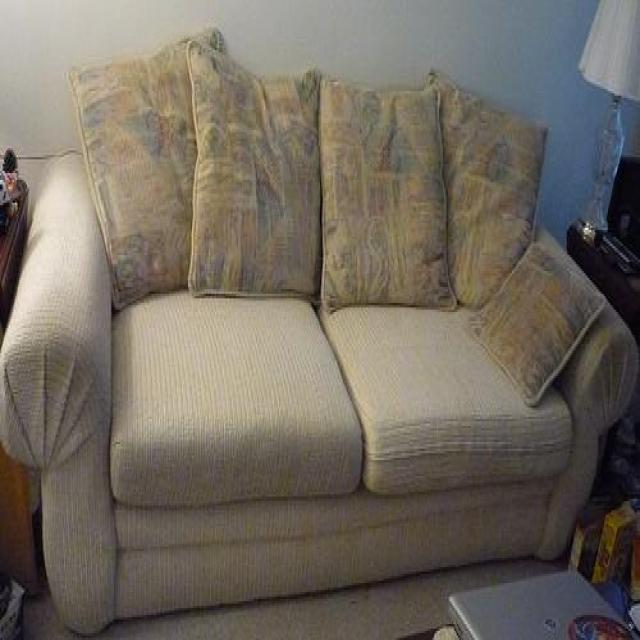sofa: (3, 26, 640, 633)
